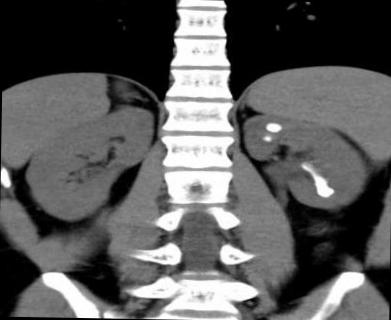Tas_Var: (313, 176, 336, 198), (262, 120, 282, 134), (297, 163, 316, 173), (258, 134, 272, 142)
